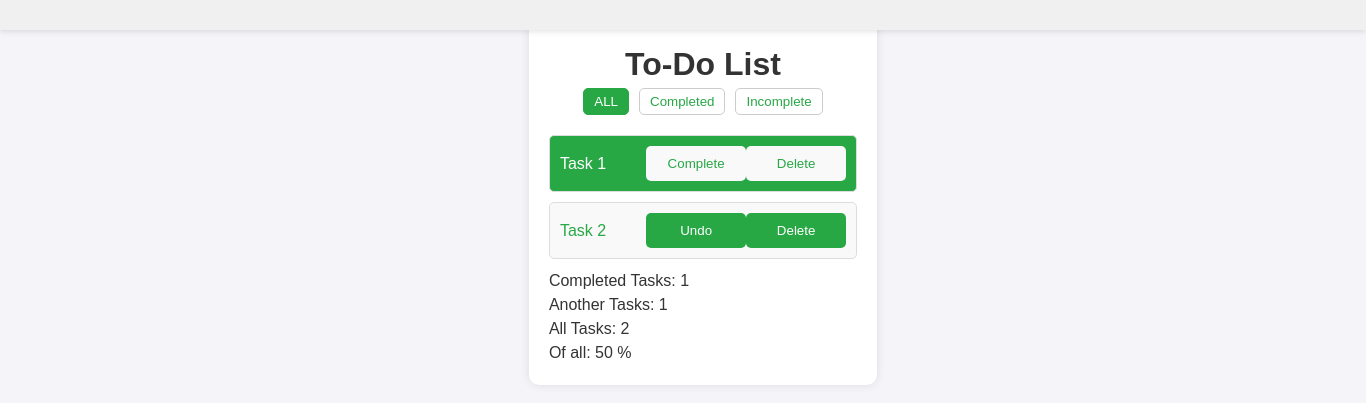
Test: filters taksks
Expected: the text "Task 1" is shown, [560,152,606,176]
Expected: the text "Task 2" is shown, [560,218,606,242]
What coordinates should you click on to do the following:
click the button "Completed"
I would click on:
 (682, 102)
Its box is [639,88,726,115].
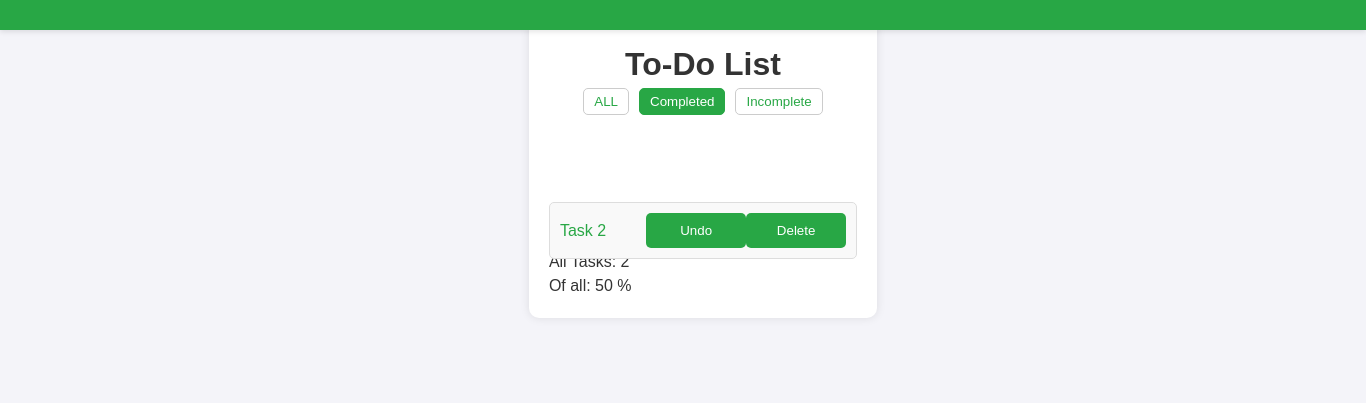
Expected: the text "Task 2" is shown, [560,218,606,242]
Expected: the text "Task 1" is gone
What coordinates should you click on to do the following:
click the button "Incomplete"
I would click on:
 (779, 102)
Its box is [736,88,823,115].
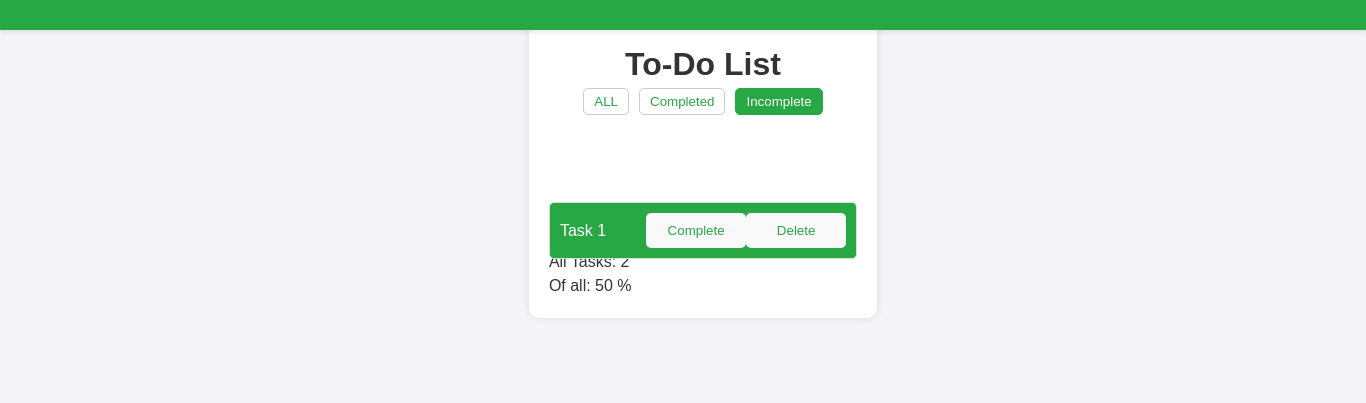
Expected: the text "Task 1" is shown, [560,218,606,242]
Expected: the text "Task 2" is gone
What coordinates should you click on to do the following:
click the button "ALL"
I would click on:
 (606, 102)
Its box is [583,88,629,115].
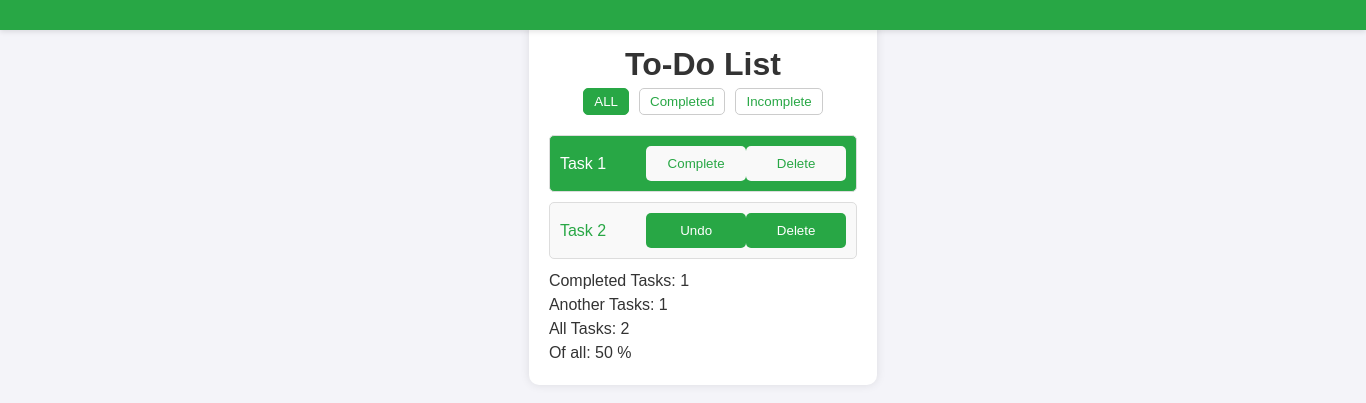
Expected: the text "Task 1" is shown, [560,152,606,176]
Expected: the text "Task 2" is shown, [560,218,606,242]
